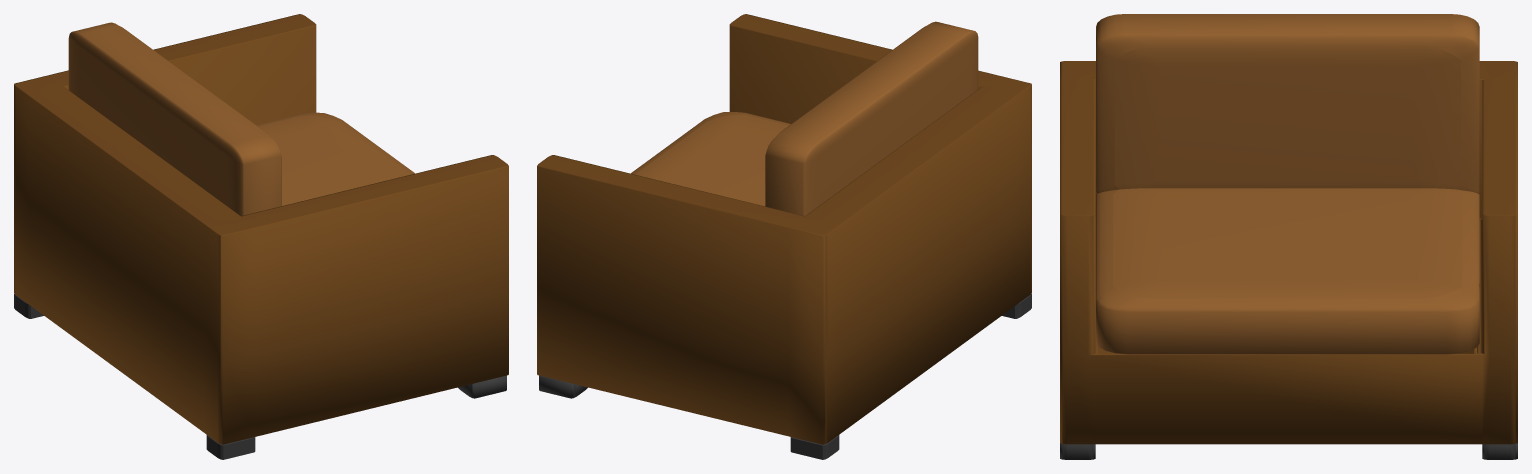
The model's file is Chair.fbx.
3 renders of one model, left to right at view 1: azimuth 30°, elevation 25°; view 2: azimuth 150°, elevation 25°; view 3: azimuth 270°, elevation 25°, orthographic. The views are drawn at different scales.
Visible parts, largest first — view 1: Couch.001; view 2: Couch.001; view 3: Couch.001.
Boxes of the visible parts, <box> form: Couch.001: <box>14,14,508,459</box>; Couch.001: <box>537,14,1031,459</box>; Couch.001: <box>1060,14,1517,459</box>.
Bounding box in the file's own units: 99.09 × 91.38 × 121.
